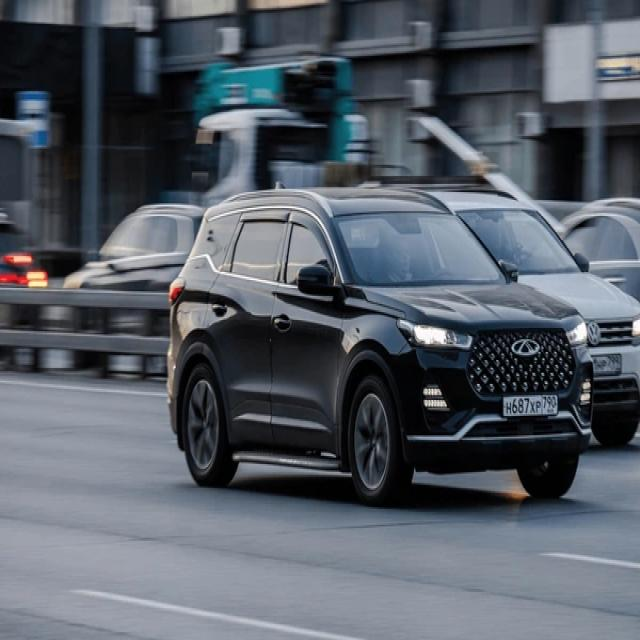cherry: (511, 338, 539, 357)
